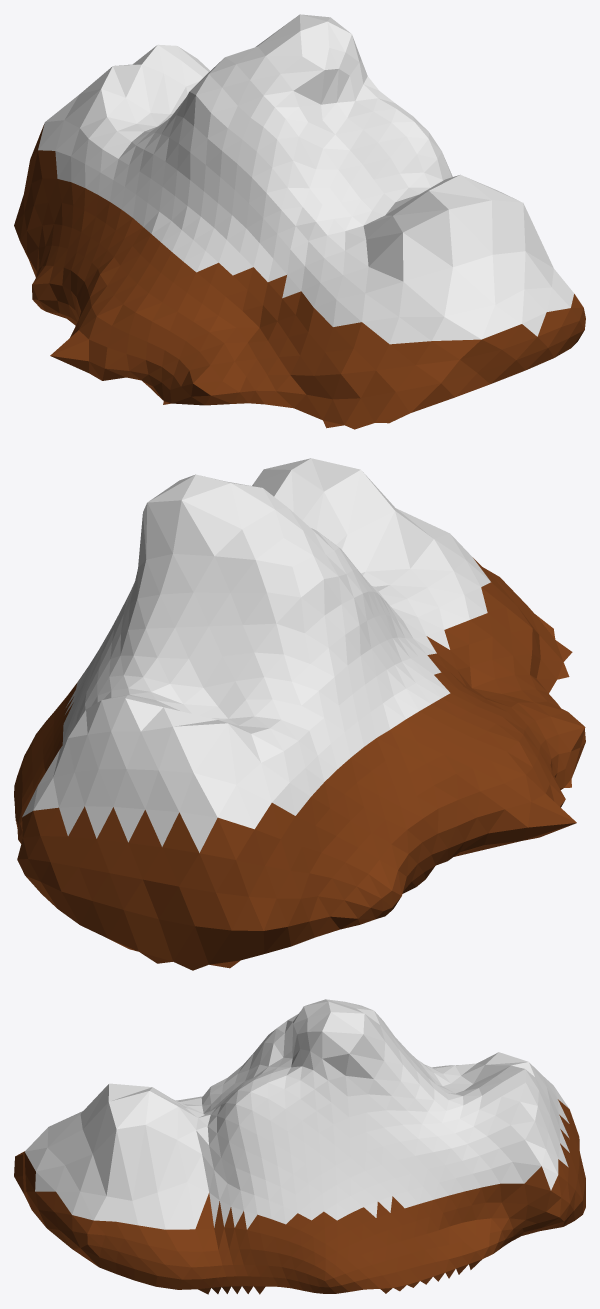
The model's file is Mountain_1.fbx.
The picture shows the model from 3 angles, top to bottom: view 1: azimuth 30°, elevation 25°; view 2: azimuth 150°, elevation 25°; view 3: azimuth 270°, elevation 25°; orthographic projection. The views are drawn at different scales.
Visible parts, largest first — view 1: Icosphere; view 2: Icosphere; view 3: Icosphere.
Part boxes in pixels (bbox=[...]): Icosphere: bbox=[14, 14, 585, 429]; Icosphere: bbox=[14, 458, 585, 970]; Icosphere: bbox=[14, 999, 585, 1294].
Size of the model in its own units: 975 by 622 by 1306.
